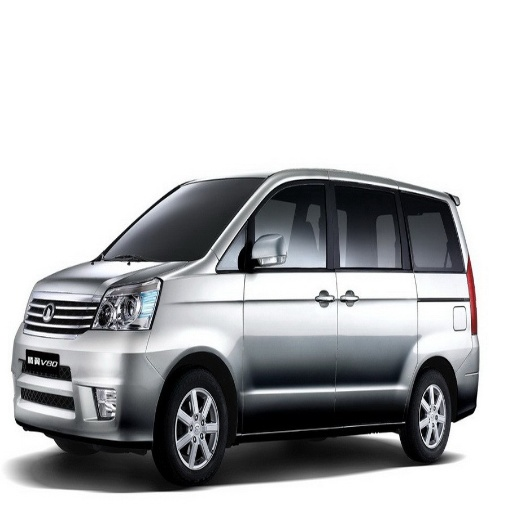back_left_door: (331, 178, 450, 410)
front_bumper: (11, 281, 179, 439)
front_glass: (98, 179, 260, 260)
front_left_door: (220, 178, 336, 413)
trunk: (424, 324, 474, 388)
